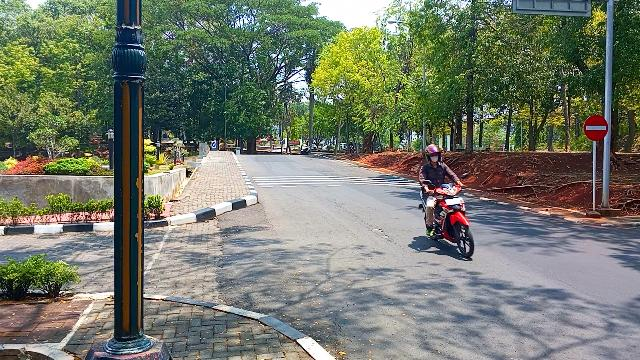helm: (425, 145, 443, 166)
motor: (419, 173, 477, 261)
